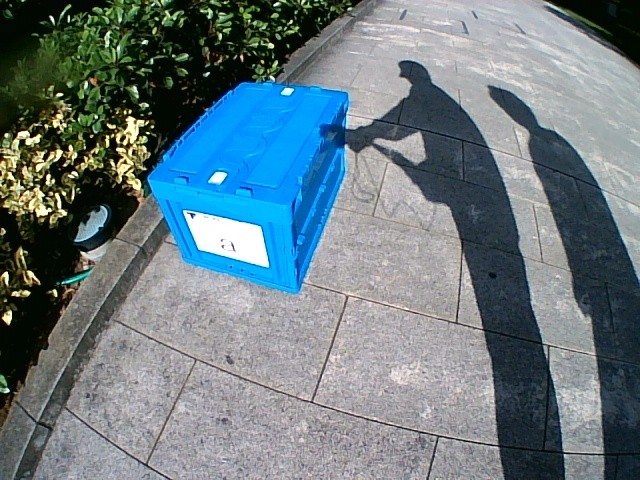green_box: (146, 82, 349, 294)
tag_b: (196, 226, 262, 256)
